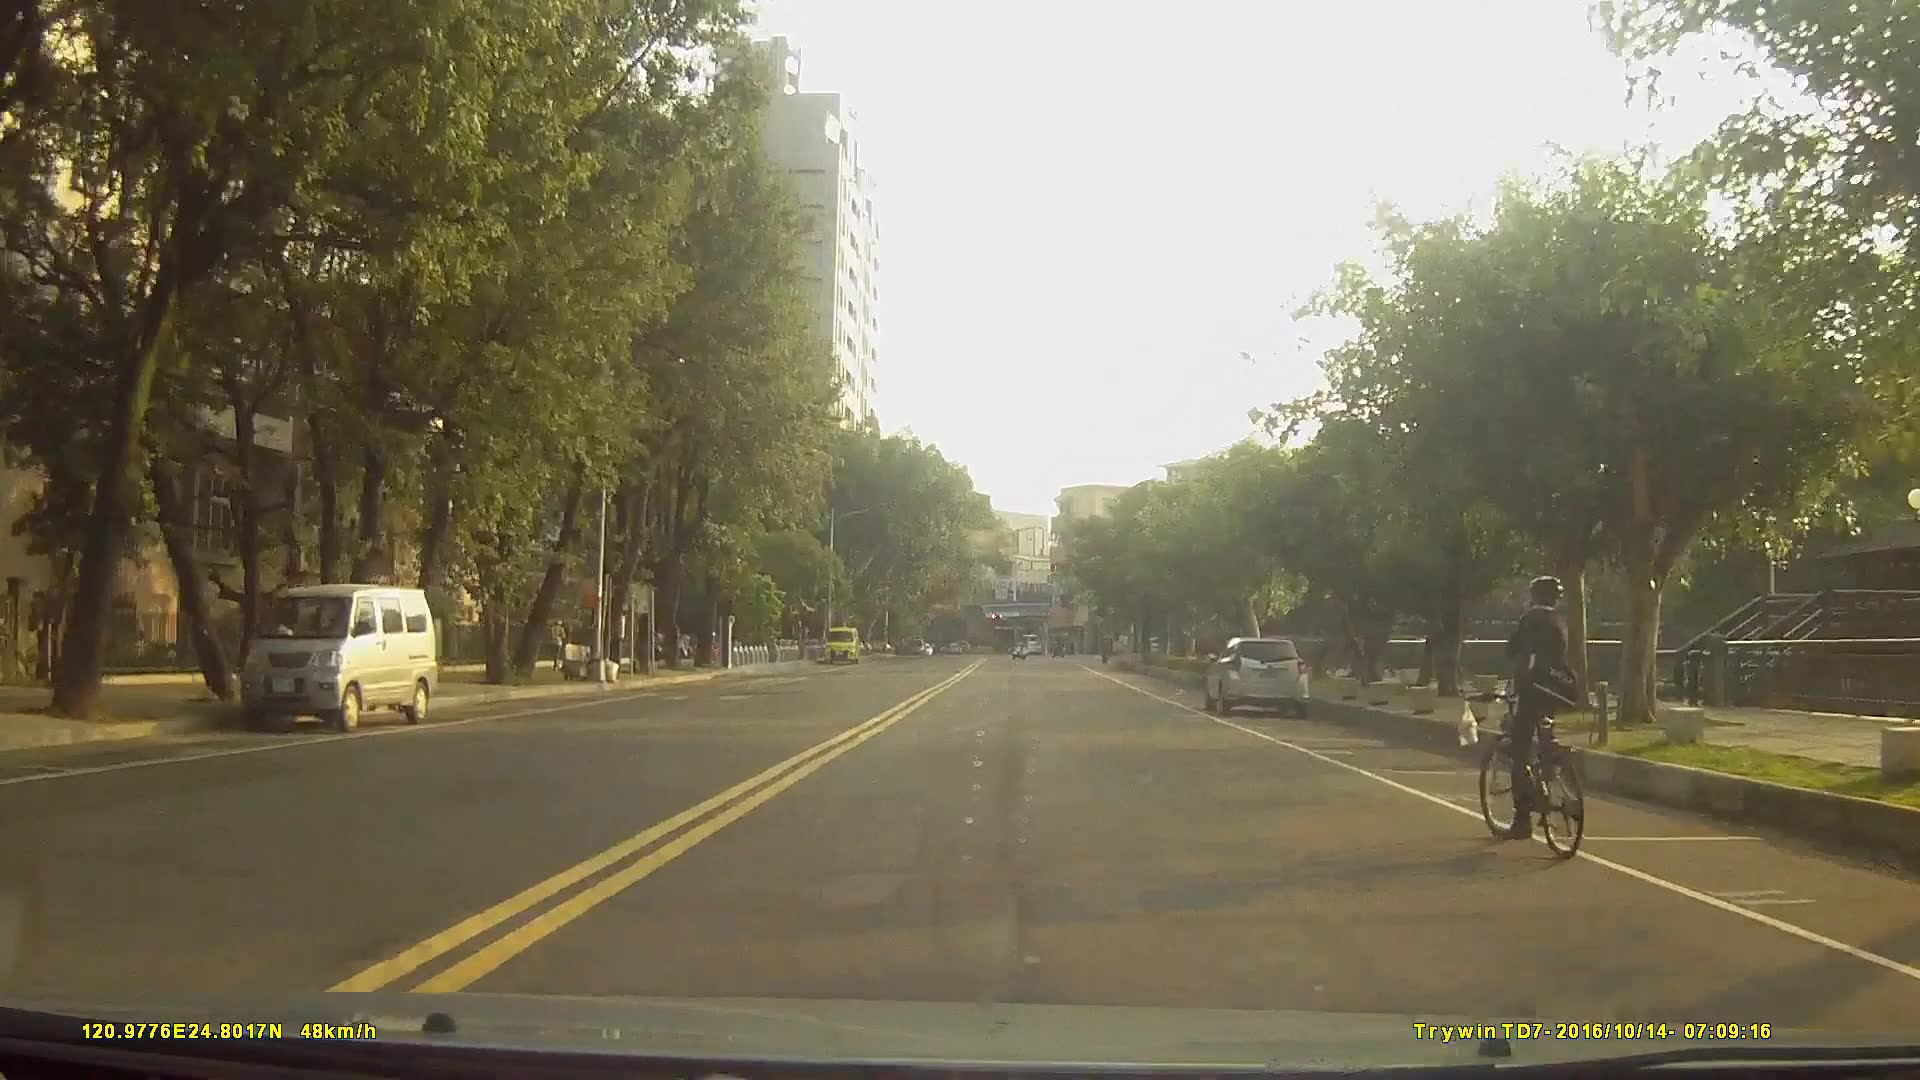rider: (1475, 573, 1590, 861)
vehicle: (231, 579, 439, 733), (1206, 636, 1312, 718), (1015, 630, 1042, 655)
